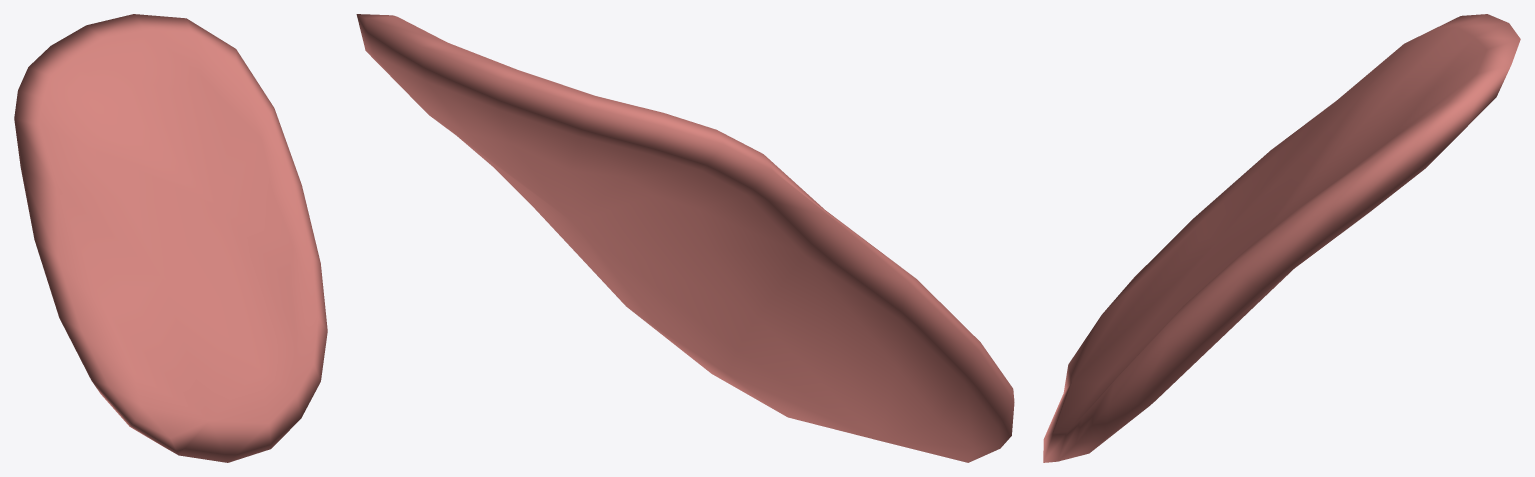
3 renders of one model, left to right at view 1: azimuth 30°, elevation 25°; view 2: azimuth 150°, elevation 25°; view 3: azimuth 270°, elevation 25°, orthographic. The views are drawn at different scales.
Visible parts, largest first — view 1: ZA_214b476e669c0e01; view 2: ZA_214b476e669c0e01; view 3: ZA_214b476e669c0e01.
Part boxes in pixels (x1,y1,x2,y2): ZA_214b476e669c0e01: (14, 14, 327, 462); ZA_214b476e669c0e01: (356, 14, 1014, 462); ZA_214b476e669c0e01: (1043, 14, 1520, 462).
Bounding box in the file's own units: 0.00431 × 0.00498 × 0.00508.
